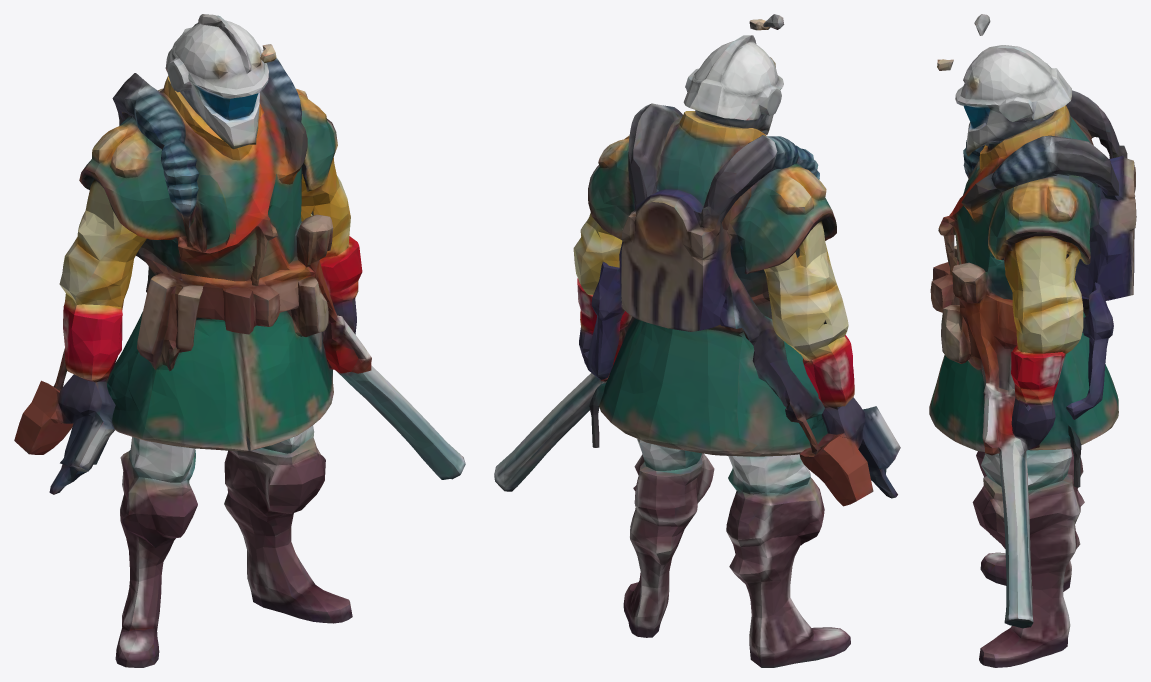
File: anime_industrial_warrior.glb
The picture shows the model from 3 angles, left to right: view 1: azimuth 30°, elevation 25°; view 2: azimuth 150°, elevation 25°; view 3: azimuth 270°, elevation 25°; orthographic projection. The views are drawn at different scales.
Parts seen in each view (by area): view 1: geometry_0; view 2: geometry_0; view 3: geometry_0.
Boxes of the visible parts, x1,y1,x2,y2 form: geometry_0: (14, 14, 465, 667); geometry_0: (494, 14, 900, 667); geometry_0: (929, 14, 1136, 667).
Bounding box in the file's own units: 0.6801 × 1 × 0.3199.
1 material, 1 textured.
